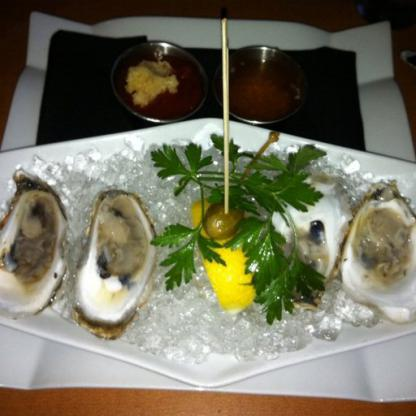oyster: (76, 190, 156, 342), (343, 184, 415, 326), (0, 172, 63, 318)
